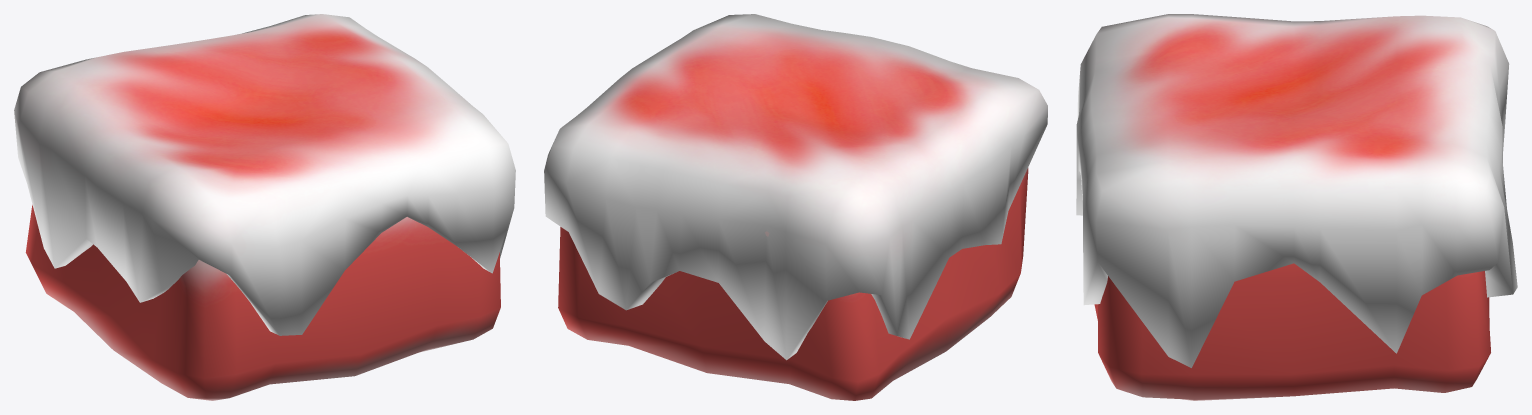
File: iceblock_sliced5.fbx
The picture shows the model from 3 angles, left to right: view 1: azimuth 30°, elevation 25°; view 2: azimuth 150°, elevation 25°; view 3: azimuth 270°, elevation 25°; orthographic projection. The views are drawn at different scales.
Visible parts, largest first — view 1: 얼음1바닥.001; view 2: 얼음1바닥.001; view 3: 얼음1바닥.001.
Boxes of the visible parts, x1,y1,x2,y2 form: 얼음1바닥.001: (14, 14, 515, 400); 얼음1바닥.001: (544, 14, 1047, 400); 얼음1바닥.001: (1076, 14, 1517, 400).
Bounding box in the file's own units: 219 × 142 × 221.
